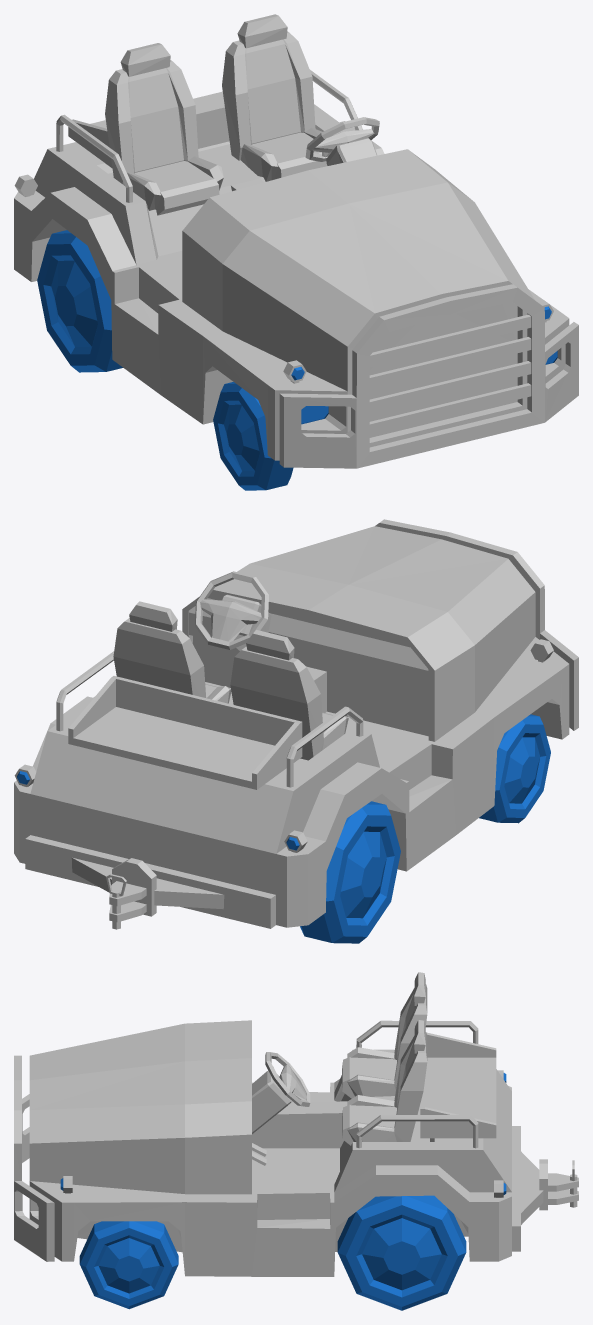
Rendered from SM_tractor.fbx.
The picture shows the model from 3 angles, top to bottom: view 1: azimuth 30°, elevation 25°; view 2: azimuth 150°, elevation 25°; view 3: azimuth 270°, elevation 25°; orthographic projection. The views are drawn at different scales.
Visible parts, largest first — view 1: Cube_1, Cylinder_4, Cylinder_1; view 2: Cube_1, Cylinder_4, Cylinder_1; view 3: Cube_1, Cylinder_4, Cylinder.
Part boxes in pixels (<box>): Cube_1: <box>14,14,578,468</box>; Cylinder_4: <box>37,230,122,372</box>; Cylinder_1: <box>213,382,293,490</box>; Cube_1: <box>14,519,578,929</box>; Cylinder_4: <box>300,801,400,943</box>; Cylinder_1: <box>479,714,550,823</box>; Cube_1: <box>14,972,578,1276</box>; Cylinder_4: <box>337,1195,466,1310</box>; Cylinder: <box>79,1221,178,1309</box>.
Size of the model in its own units: 1755 by 1633 by 3350.
